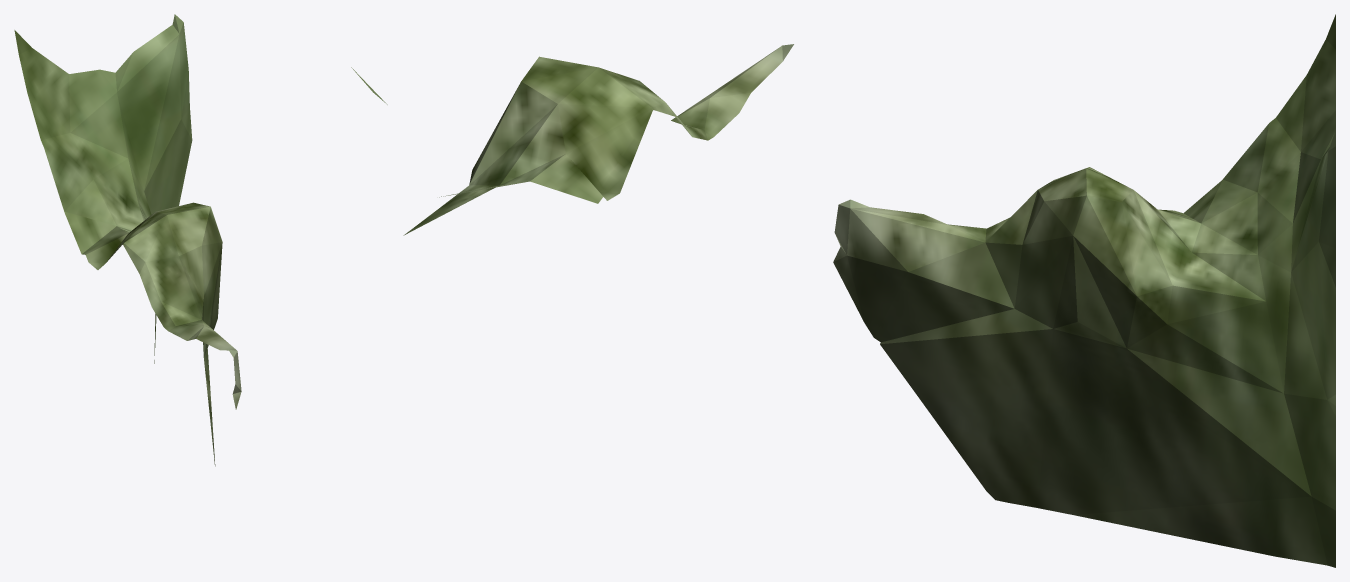
The picture shows the model from 3 angles, left to right: view 1: azimuth 30°, elevation 25°; view 2: azimuth 150°, elevation 25°; view 3: azimuth 270°, elevation 25°; orthographic projection. The views are drawn at different scales.
Size of the model in its own units: 0.5332 by 1.23 by 1.15.
1 material, 1 textured.
